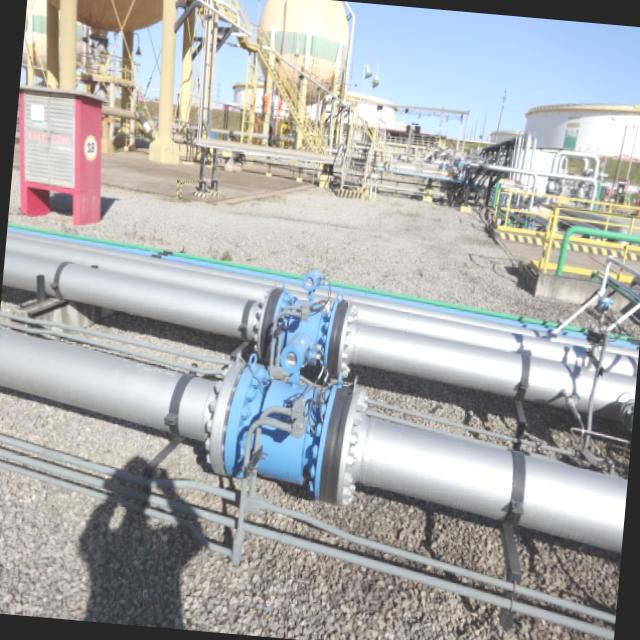gas: (0, 327, 620, 548), (2, 245, 633, 420)
